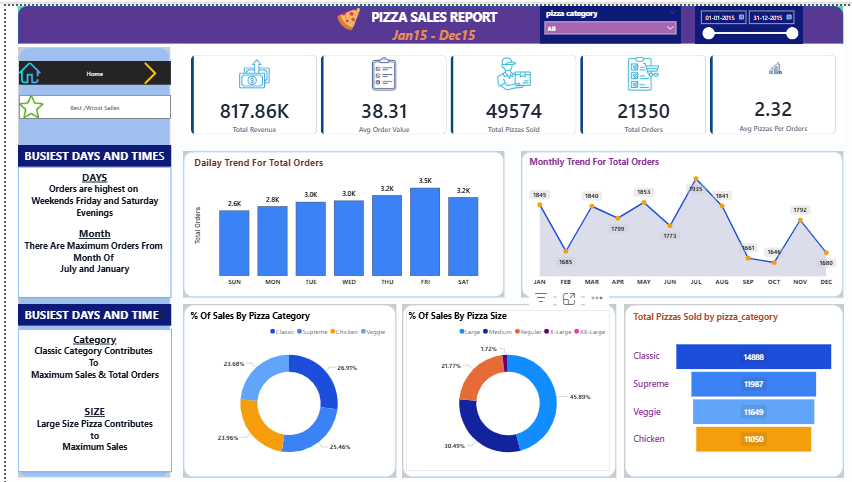

Layout of this report page (visuals, bound fields, positions):
{"tool":"powerbi","page":{"name":"Home","canvas":[1800,1070],"ordinal":0},"visuals":[{"type":"shape","box":[26,0,1756,80],"z":0},{"type":"cardVisual","fields":{"Data":["pizza_sales.Total Revenue","pizza_sales.Avg Order Value","pizza_sales.Total Pizzas Sold","pizza_sales.Total Orders","pizza_sales.Avg Pizzas Per Orders"]},"box":[375.9,87.9,1406.9,203.4],"z":1000},{"type":"textbox","box":[754,0,316,46],"z":2000},{"type":"textbox","box":[816,38,192,52],"z":3000},{"type":"image","box":[704,0,50,56],"z":4000},{"type":"shape","box":[376,308,684,312],"z":5000},{"type":"columnChart","title":"Dailay Trend For Total Orders","fields":{"Y":["pizza_sales.Total Orders"],"Category":["pizza_sales.Order Day"]},"box":[396,320,648,286],"z":6000},{"type":"shape","box":[1096,308,686,312],"z":7000},{"type":"areaChart","title":"Monthly Trend For Total Orders","fields":{"Category":["pizza_sales.Order Month"],"Y":["pizza_sales.Total Orders"]},"box":[1108,320,664,286],"z":8000},{"type":"shape","box":[1314,634,468,370],"z":9000},{"type":"shape","box":[842,634,456,370],"z":10000},{"type":"shape","box":[376,634,454,370],"z":11000},{"type":"shape","box":[26.5,87.8,324.5,916.3],"z":12000},{"type":"donutChart","title":"% Of Sales By Pizza Category","fields":{"Category":["pizza_sales.pizza_category"],"Y":["pizza_sales.Total Revenue"]},"box":[388,646,430,344],"z":13000},{"type":"textbox","box":[26,296,326,46],"z":14000},{"type":"donutChart","title":"% Of Sales By Pizza Size","fields":{"Y":["pizza_sales.Total Revenue"],"Category":["pizza_sales.pizza_size"]},"box":[852,646,434,344],"z":15000},{"type":"funnel","fields":{"Category":["pizza_sales.pizza_category"],"Y":["pizza_sales.Total Pizzas Sold"]},"box":[1330,648,436,344],"z":16000},{"type":"textbox","box":[26.2,342.5,326.2,277.5],"z":17000},{"type":"textbox","box":[25,633.8,326.2,46.2],"z":18000},{"type":"textbox","box":[24.5,687.8,326.5,304.1],"z":19000},{"type":"slicer","fields":{"Values":["pizza_sales.pizza_category"]},"box":[1136.2,0,300,80],"z":20000},{"type":"slicer","fields":{"Values":["pizza_sales.order_date"]},"box":[1466.2,0,227.5,80],"z":21000},{"type":"pageNavigator","box":[26.9,117.9,323.9,50.7],"z":22000},{"type":"pageNavigator","box":[26.9,189.6,323.9,50.7],"z":23000},{"type":"image","box":[27,184,52,62],"z":24000},{"type":"image","box":[282,118,48,51],"z":25000},{"type":"image","box":[27,107,46,72],"z":26000}]}

Visuals, with their boxes on the page's 1800x1070 design canvas (x1, y1, x2, y2). These are canvas units, not pixel positions in the 852x482 screenshot, which may show the page scaled, cropped or inside an application window:
shape: 26 0 1782 80
cardVisual - pizza_sales.Total Revenue x pizza_sales.Avg Order Value: 376 88 1783 291
textbox: 754 0 1070 46
textbox: 816 38 1008 90
image: 704 0 754 56
shape: 376 308 1060 620
"Dailay Trend For Total Orders" columnChart: 396 320 1044 606
shape: 1096 308 1782 620
"Monthly Trend For Total Orders" areaChart: 1108 320 1772 606
shape: 1314 634 1782 1004
shape: 842 634 1298 1004
shape: 376 634 830 1004
shape: 26 88 351 1004
"% Of Sales By Pizza Category" donutChart: 388 646 818 990
textbox: 26 296 352 342
"% Of Sales By Pizza Size" donutChart: 852 646 1286 990
funnel - pizza_sales.pizza_category x pizza_sales.Total Pizzas Sold: 1330 648 1766 992
textbox: 26 342 352 620
textbox: 25 634 351 680
textbox: 24 688 351 992
slicer - pizza_sales.pizza_category: 1136 0 1436 80
slicer - pizza_sales.order_date: 1466 0 1694 80
pageNavigator: 27 118 351 169
pageNavigator: 27 190 351 240
image: 27 184 79 246
image: 282 118 330 169
image: 27 107 73 179
